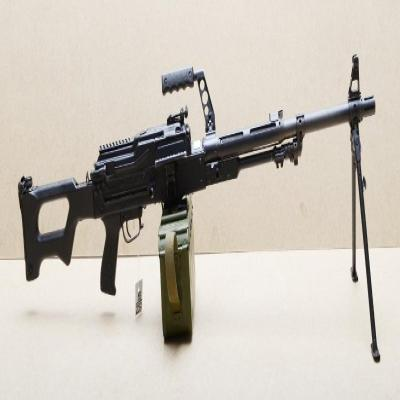weapon: (18, 56, 382, 364)
